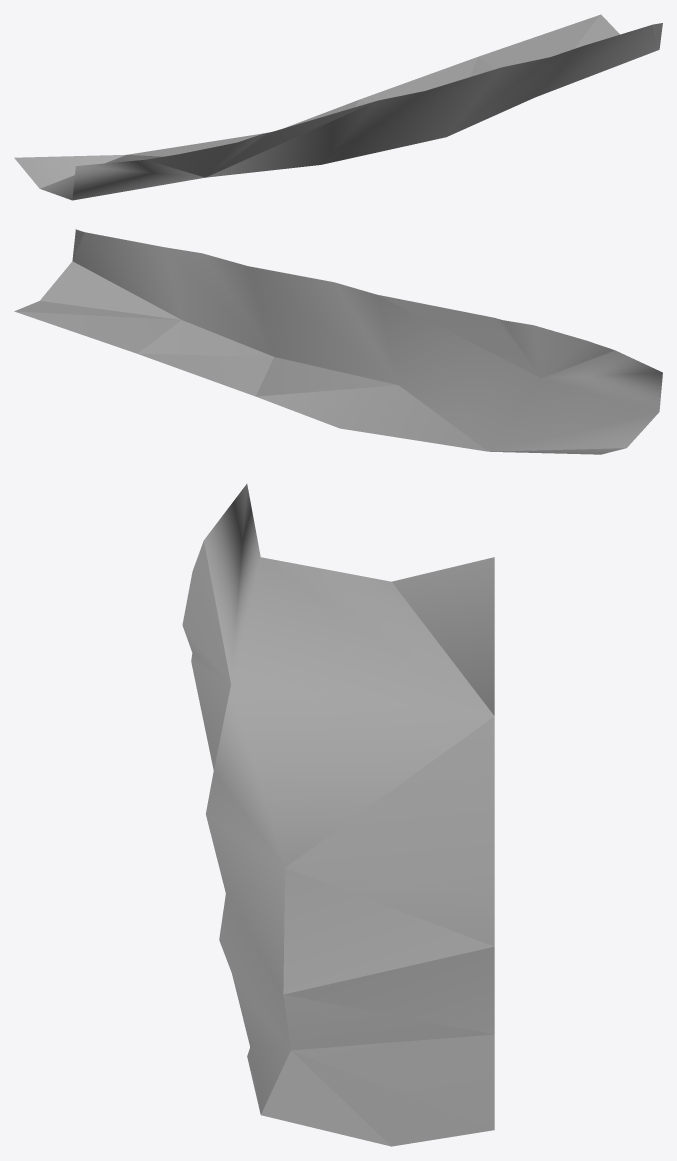
The model's file is WallRoofHanging1.fbx.
3 renders of one model, top to bottom at view 1: azimuth 30°, elevation 25°; view 2: azimuth 150°, elevation 25°; view 3: azimuth 270°, elevation 25°, orthographic. The views are drawn at different scales.
Parts seen in each view (by area): view 1: WallRoofHanging1; view 2: WallRoofHanging1; view 3: WallRoofHanging1.
Boxes of the visible parts, bbox=[...] form: WallRoofHanging1: bbox=[14, 14, 662, 200]; WallRoofHanging1: bbox=[14, 229, 662, 454]; WallRoofHanging1: bbox=[182, 484, 494, 1146].
Size of the model in its own units: 500 by 60.59 by 115.
